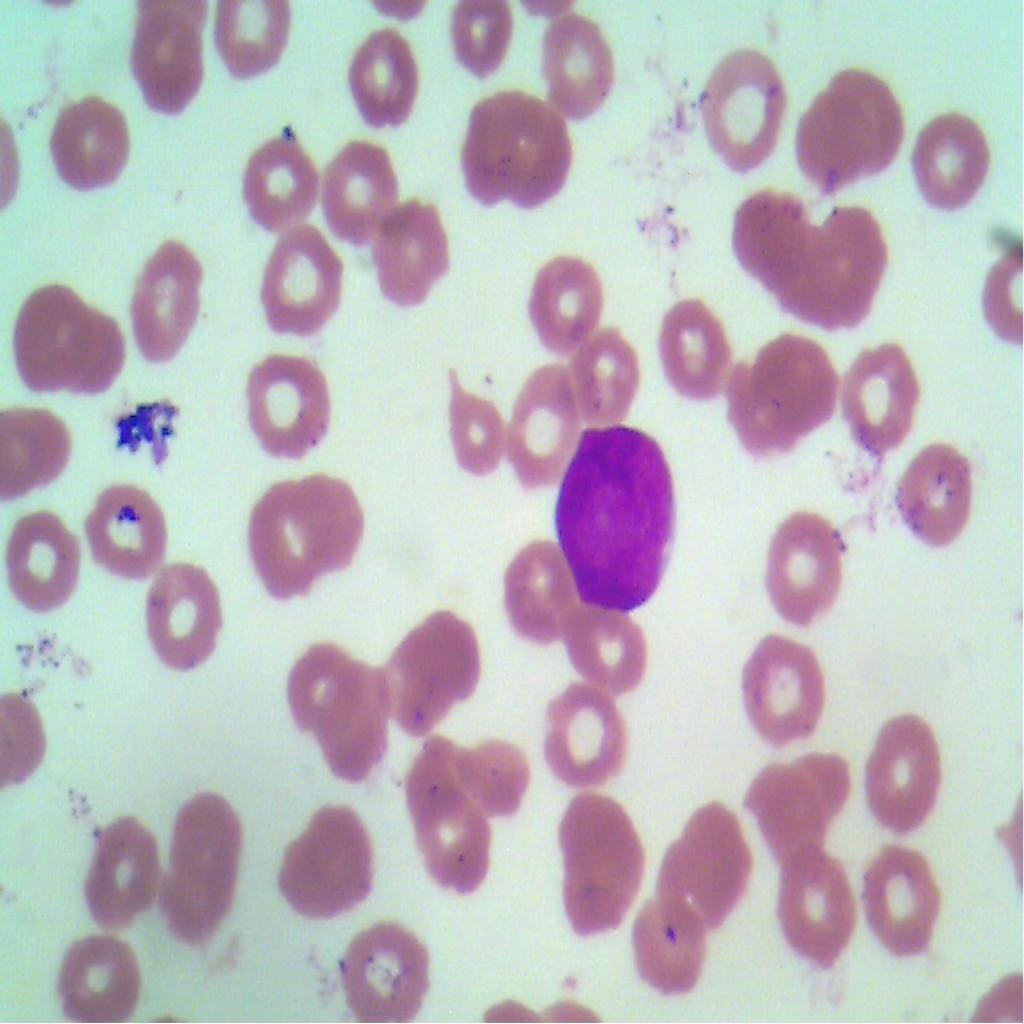Eritrosit: (676, 50, 790, 178), (389, 601, 489, 737), (473, 84, 570, 224), (275, 802, 384, 925), (750, 506, 853, 634), (561, 784, 646, 935), (728, 630, 834, 751), (798, 208, 896, 329), (528, 7, 626, 127), (656, 817, 754, 936), (529, 682, 628, 796), (855, 705, 949, 824), (244, 338, 338, 456), (40, 84, 134, 201), (731, 174, 823, 292), (736, 752, 828, 868), (140, 561, 226, 681), (858, 844, 946, 961), (374, 192, 464, 304), (258, 224, 346, 337), (79, 817, 166, 931), (284, 467, 371, 580), (336, 920, 431, 1023), (0, 514, 94, 618), (783, 845, 859, 972), (346, 28, 432, 138), (904, 108, 993, 214), (658, 292, 740, 406), (499, 360, 578, 478), (886, 447, 976, 550), (129, 234, 201, 360), (58, 934, 158, 1023), (411, 794, 493, 901), (131, 0, 209, 112), (831, 62, 908, 171), (81, 477, 163, 578), (319, 128, 396, 235), (501, 528, 575, 637), (11, 278, 82, 390), (846, 351, 926, 450), (207, 0, 298, 87), (760, 328, 842, 424), (161, 850, 233, 959), (566, 314, 641, 418), (726, 338, 795, 451), (796, 78, 869, 183), (244, 479, 309, 595), (318, 681, 389, 784), (236, 130, 313, 224), (398, 725, 468, 828), (566, 604, 646, 691), (636, 894, 702, 997), (455, 732, 534, 818), (530, 257, 602, 344), (449, 374, 509, 478), (58, 312, 126, 402), (172, 794, 242, 879), (451, 0, 521, 85), (286, 632, 356, 714)
Limfoblast: (546, 417, 683, 624)
Platelet: (274, 117, 306, 159)
